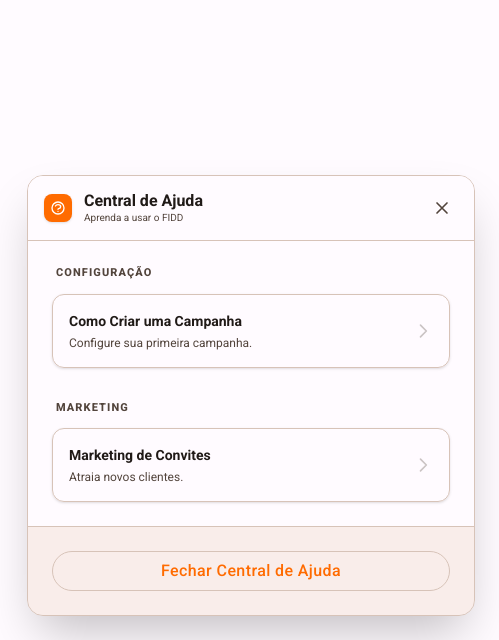
it: HelpCenter › deve exibir os detalhes do tutorial ao clicar
Click the heading "Como Criar uma Campanha": coordinates (155, 320) [69,312,242,328]
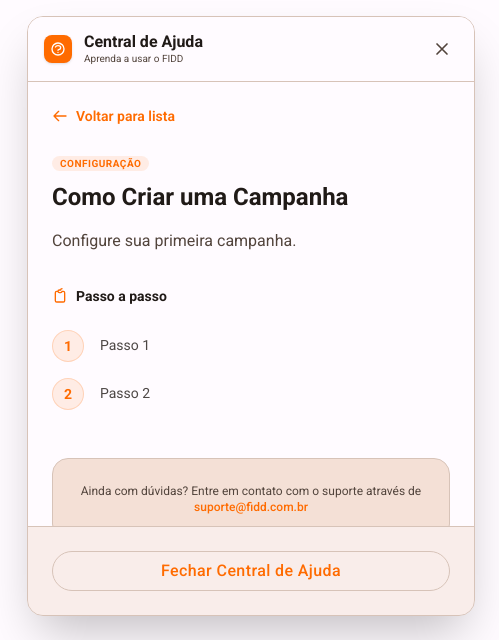
Expected: the heading "Passo a passo" is shown, [52,288,167,304]
Expected: the text "Passo 1" is shown, [100,337,150,353]
Expected: the text "Passo 2" is shown, [100,385,150,401]
